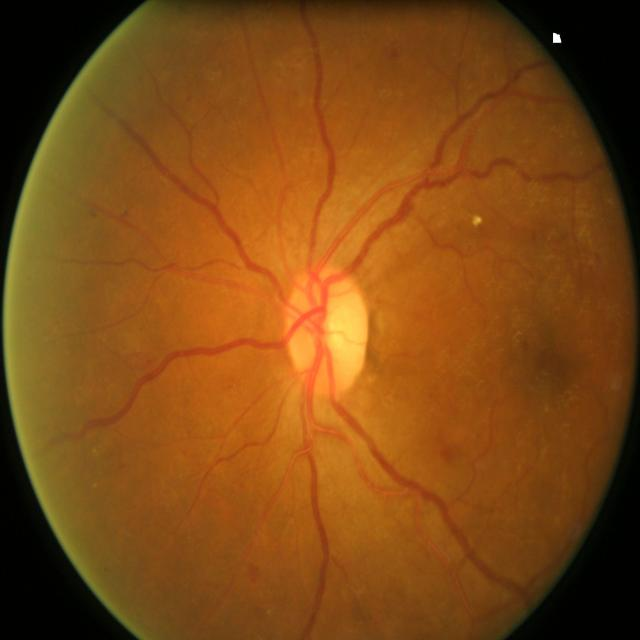OC: (324, 315, 349, 350)
OD: (286, 270, 374, 400)
